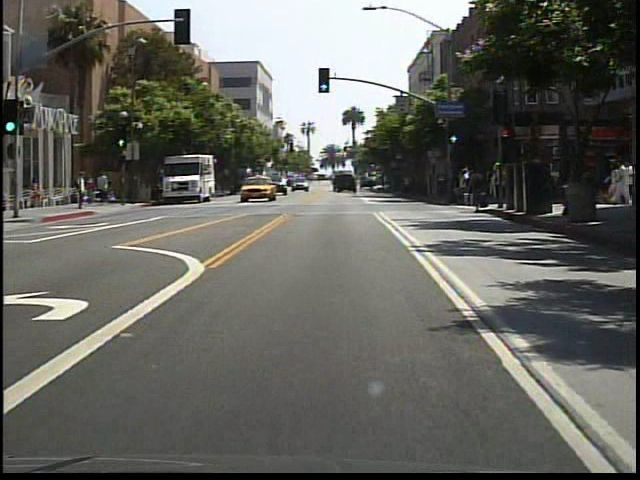person: (75, 170, 90, 212), (96, 169, 113, 205), (33, 177, 47, 208), (86, 174, 98, 205)
